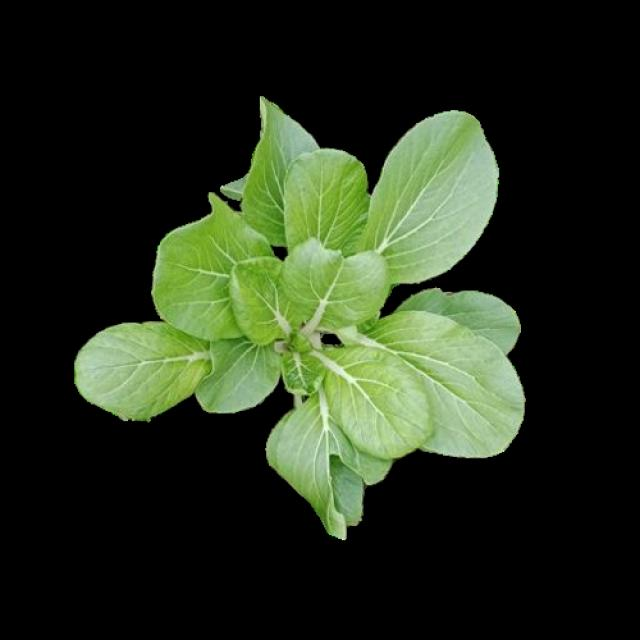not-mature: (77, 96, 523, 534)
unhealthy: (266, 378, 391, 535)
